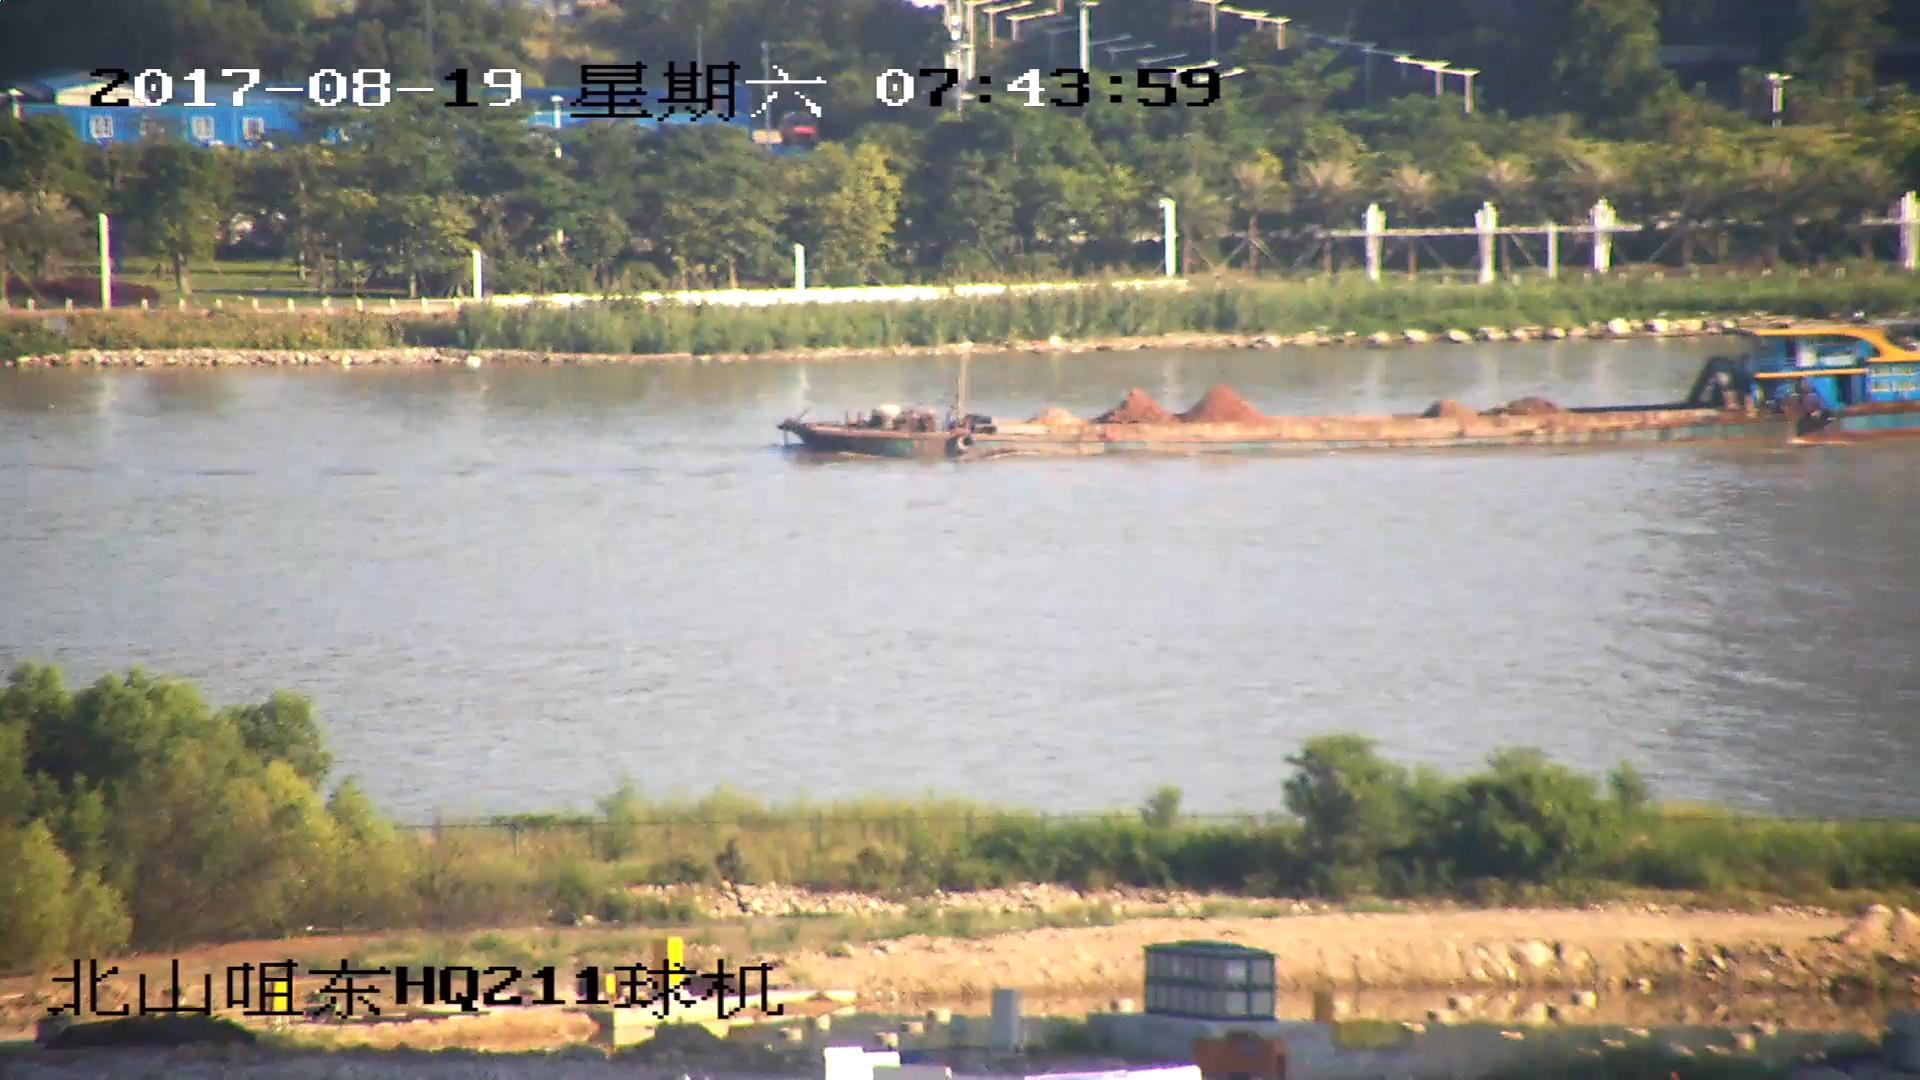ore carrier: (779, 322, 1920, 460)
